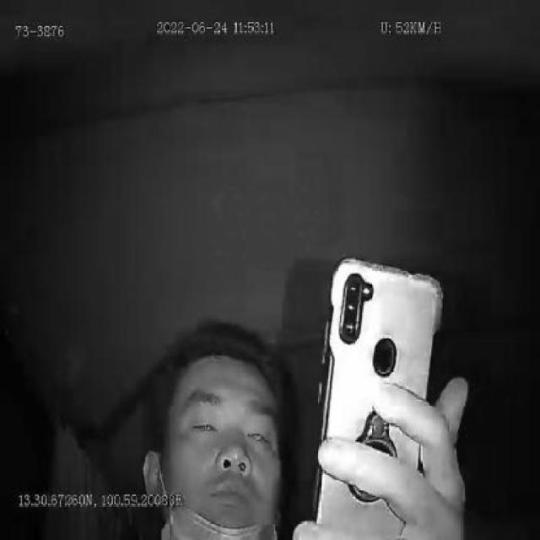phone: (314, 255, 444, 540)
